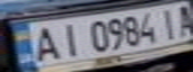0: (84, 17, 109, 53)
4: (136, 10, 163, 44)
8: (121, 12, 142, 47)
9: (106, 16, 127, 50)
A: (24, 24, 66, 64), (172, 1, 193, 37)
I: (54, 20, 84, 57), (154, 5, 184, 39)
